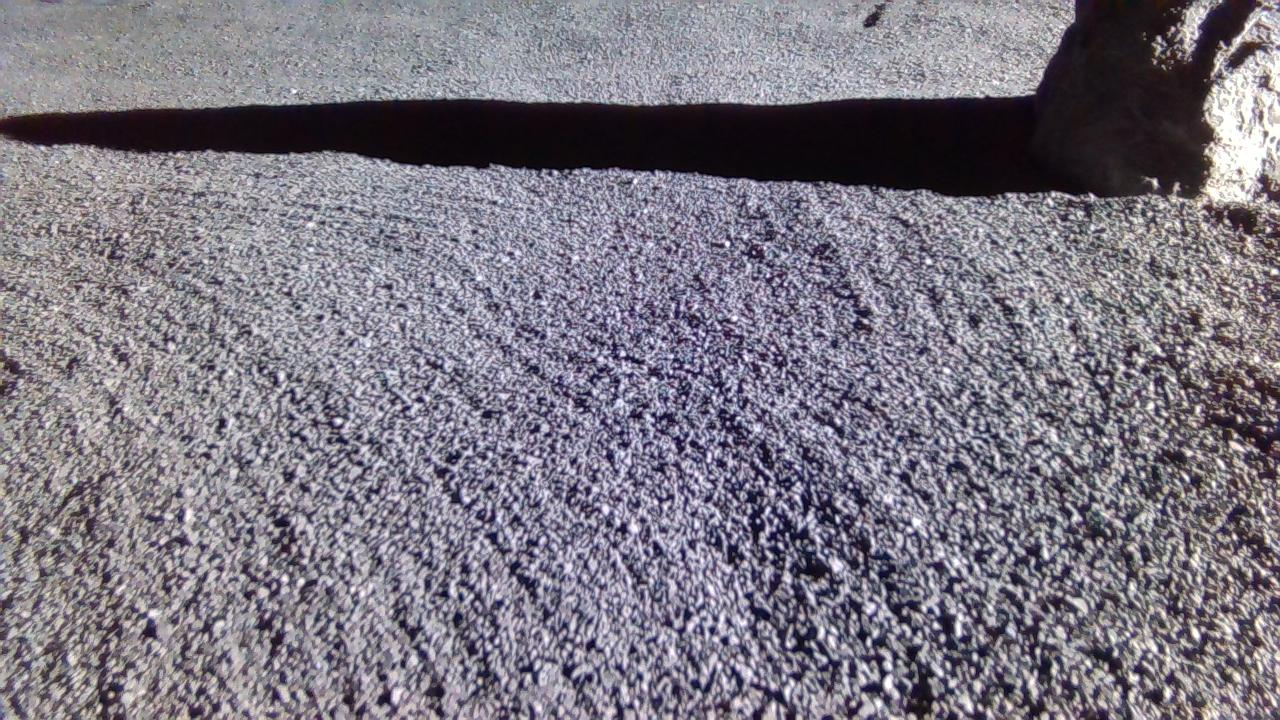rock: (1037, 0, 1280, 199)
